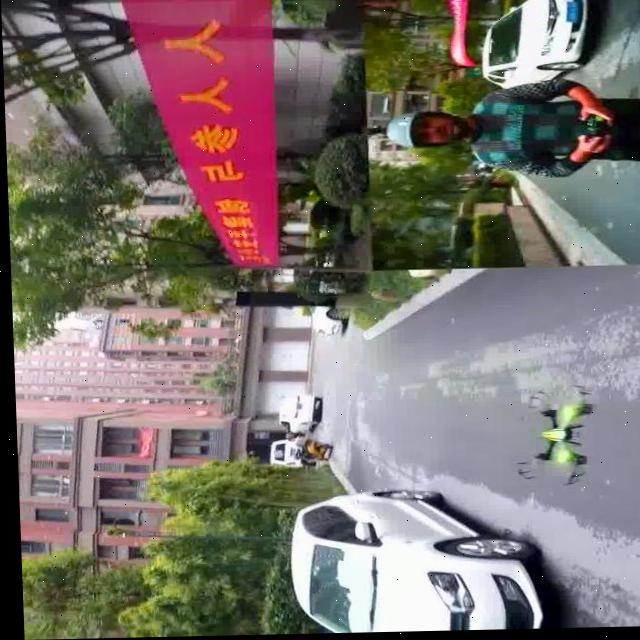drone: (510, 376, 592, 495)
